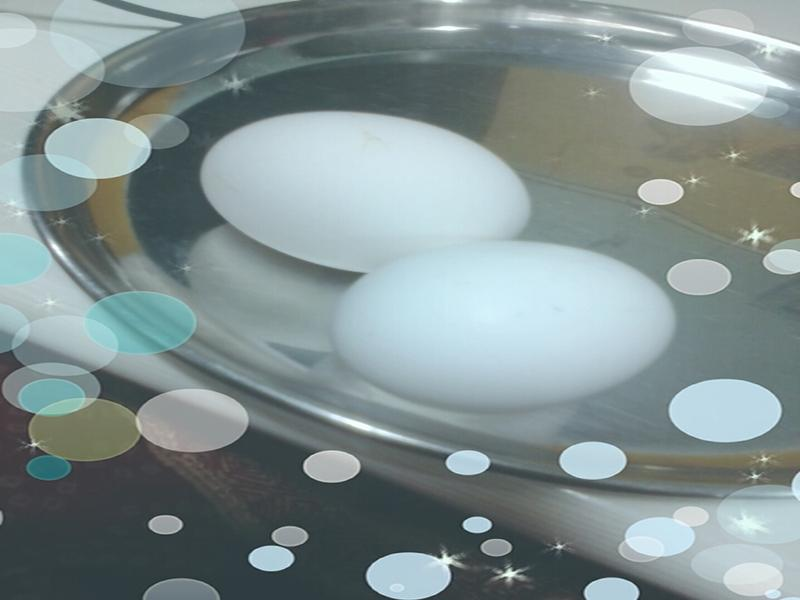egg: (338, 240, 675, 396)
